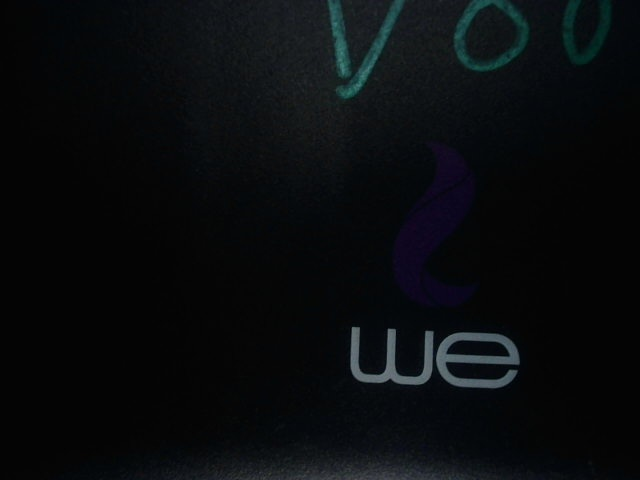AT_We: (343, 134, 532, 397)
